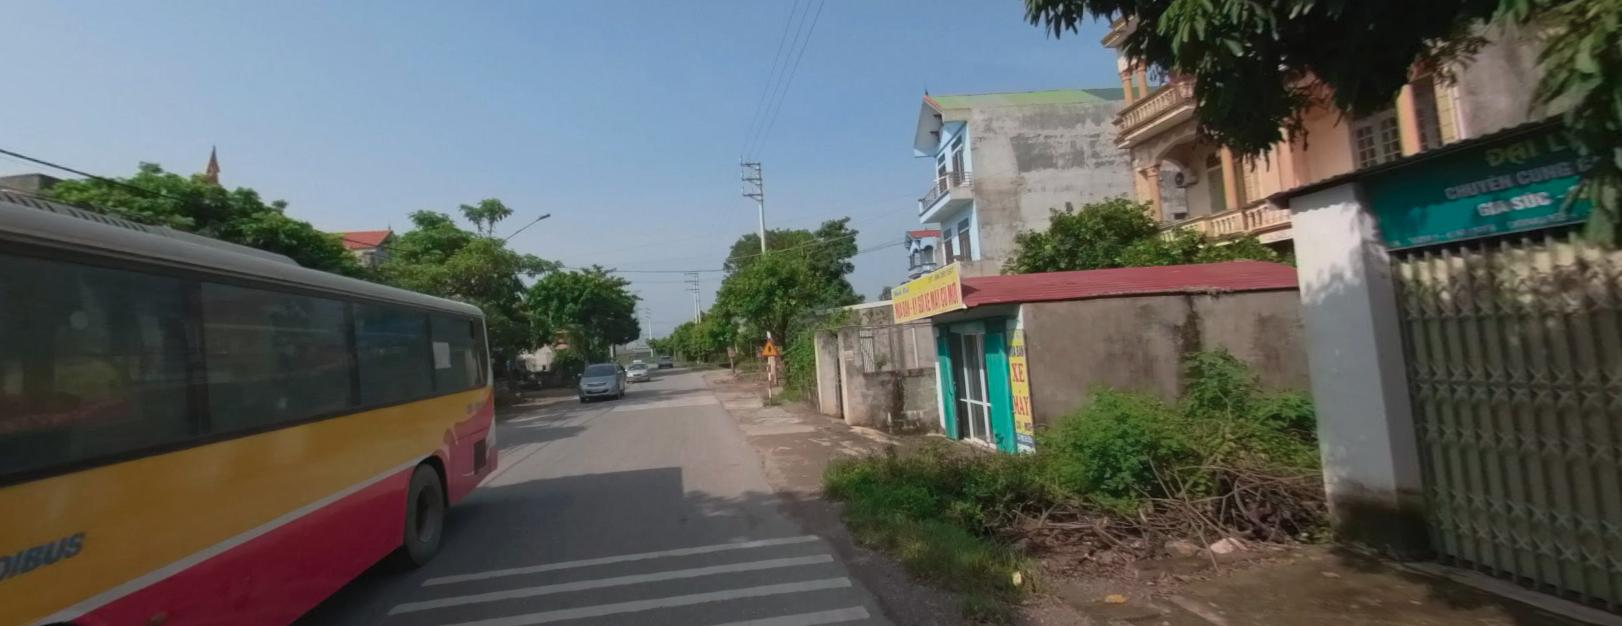Nguy hiem: (761, 338, 778, 354)
